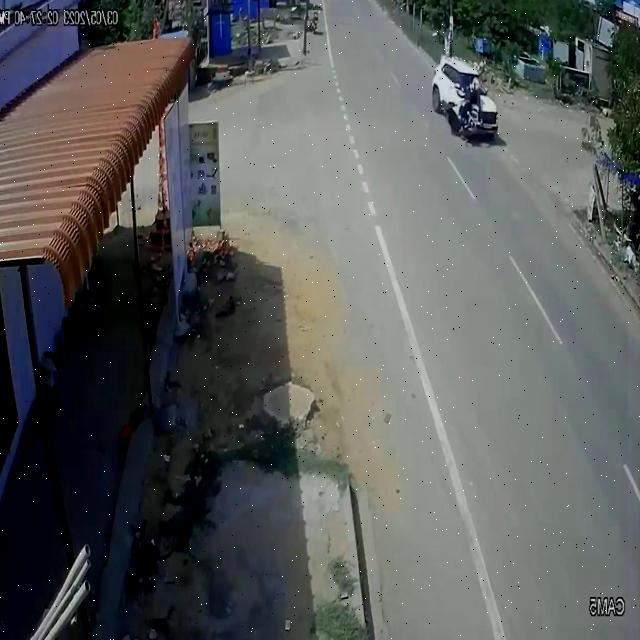accident: (426, 47, 502, 152)
